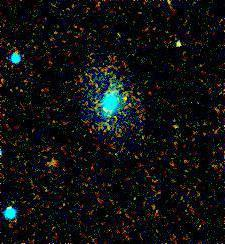star: (111, 85, 141, 115)
